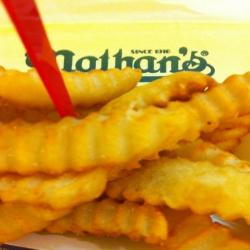fries: (3, 74, 237, 227)
